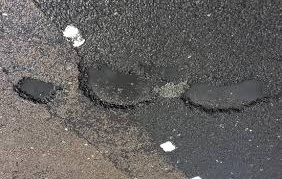pothole: (170, 74, 277, 122), (80, 65, 161, 108), (9, 79, 66, 105)
